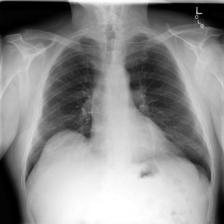normal: (18, 33, 214, 188)
